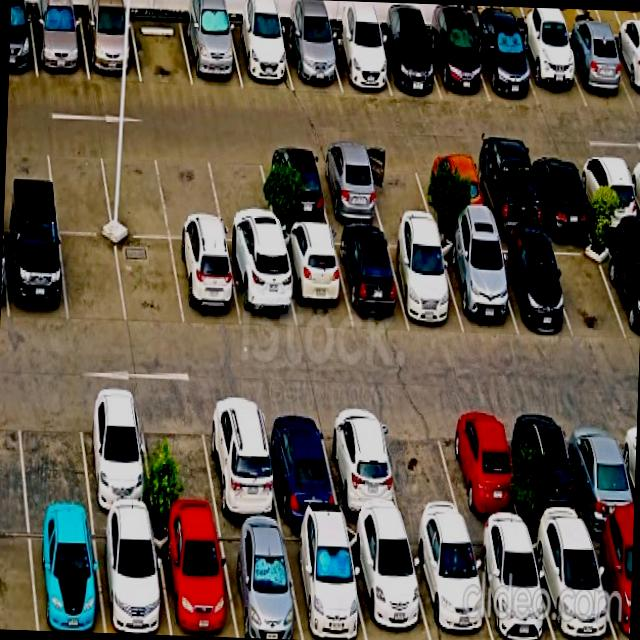empty: (376, 406, 466, 528), (139, 395, 218, 520), (16, 392, 90, 514), (546, 234, 628, 336), (206, 147, 277, 242), (99, 143, 169, 237), (156, 145, 223, 239), (115, 237, 184, 328), (45, 140, 112, 233), (59, 233, 126, 323), (363, 150, 433, 225), (130, 16, 192, 85)
occupied: (440, 406, 524, 531), (319, 405, 403, 527), (217, 523, 302, 640), (201, 397, 280, 522), (153, 520, 236, 637), (260, 401, 340, 522), (282, 525, 366, 640), (77, 391, 153, 517), (346, 526, 430, 640), (528, 530, 615, 640), (511, 407, 588, 530), (468, 530, 554, 640), (406, 530, 492, 640), (93, 517, 170, 635), (27, 516, 104, 633), (562, 409, 634, 530), (489, 238, 571, 334), (438, 237, 518, 335), (385, 233, 463, 333), (279, 230, 352, 330), (333, 231, 408, 328), (170, 239, 241, 327), (3, 226, 67, 322), (225, 243, 296, 329), (469, 154, 543, 233), (417, 152, 488, 229), (560, 35, 634, 108), (259, 149, 329, 226), (314, 150, 383, 225), (516, 34, 586, 107), (527, 154, 594, 229), (588, 529, 633, 640), (472, 29, 538, 104), (576, 154, 640, 229), (425, 29, 489, 101), (375, 31, 441, 98), (228, 22, 293, 90), (180, 19, 242, 89), (326, 29, 391, 95), (600, 235, 640, 341), (79, 15, 140, 81), (30, 13, 89, 79), (281, 27, 341, 91), (609, 38, 640, 108)
